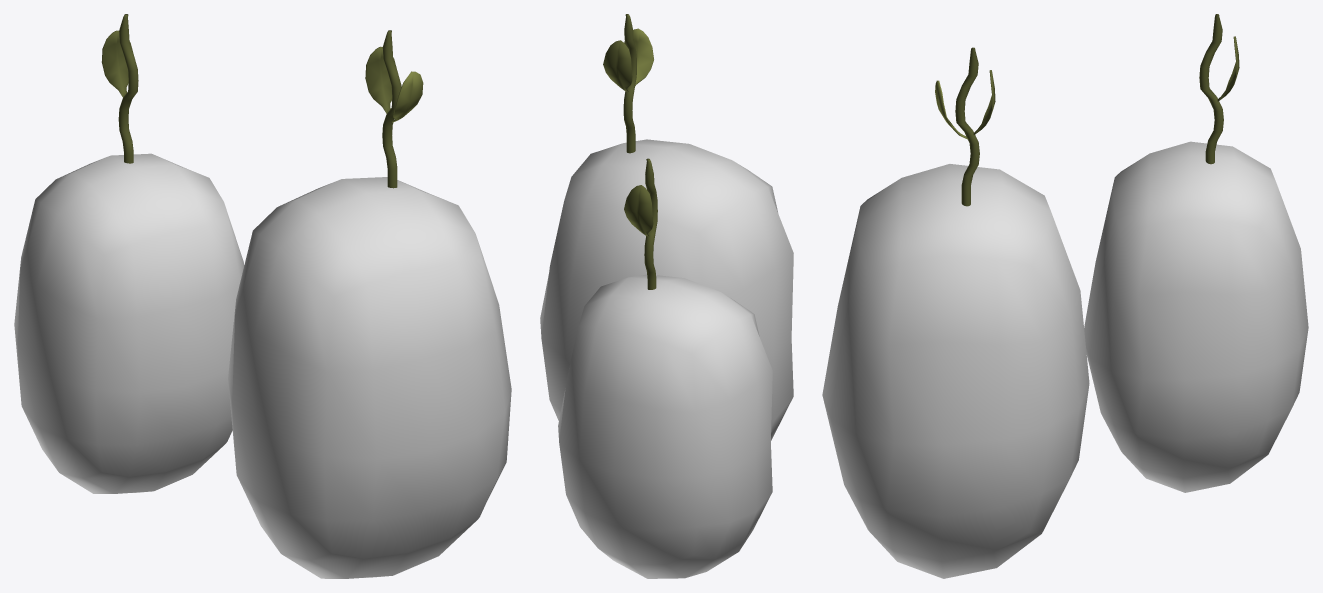
Rendered from 2ºFase_Patatas.fbx.
The picture shows the model from 3 angles, left to right: view 1: azimuth 30°, elevation 25°; view 2: azimuth 150°, elevation 25°; view 3: azimuth 270°, elevation 25°; orthographic projection. The views are drawn at different scales.
Parts seen in each view (by area): view 1: Cube.002, Cube.001, Cylinder.001, Cylinder.002, Circle.008, Circle.005, Circle.007; view 2: Cube.001, Cube.002, Cylinder.002, Circle.005, Circle.008, Cylinder.001, Circle.007; view 3: Cube.002, Cube.001, Cylinder.002, Cylinder.001.
Part boxes in pixels (x1,y1,x2,y2): Cube.002: (228, 177, 511, 578); Cube.001: (14, 153, 244, 493); Cylinder.001: (118, 14, 138, 163); Cylinder.002: (382, 30, 401, 188); Circle.008: (365, 46, 396, 113); Circle.005: (101, 30, 132, 97); Circle.007: (392, 71, 423, 122); Cube.001: (558, 274, 772, 578); Cube.002: (540, 139, 793, 440); Cylinder.002: (623, 14, 636, 153); Circle.005: (624, 185, 653, 236); Circle.008: (603, 40, 632, 91); Cylinder.001: (644, 158, 657, 289); Circle.007: (624, 28, 653, 86); Cube.002: (822, 164, 1089, 578); Cube.001: (1084, 141, 1308, 492); Cylinder.002: (955, 47, 979, 206); Cylinder.001: (1199, 14, 1223, 164).
Size of the model in its own units: 52.08 by 77.65 by 63.85.
